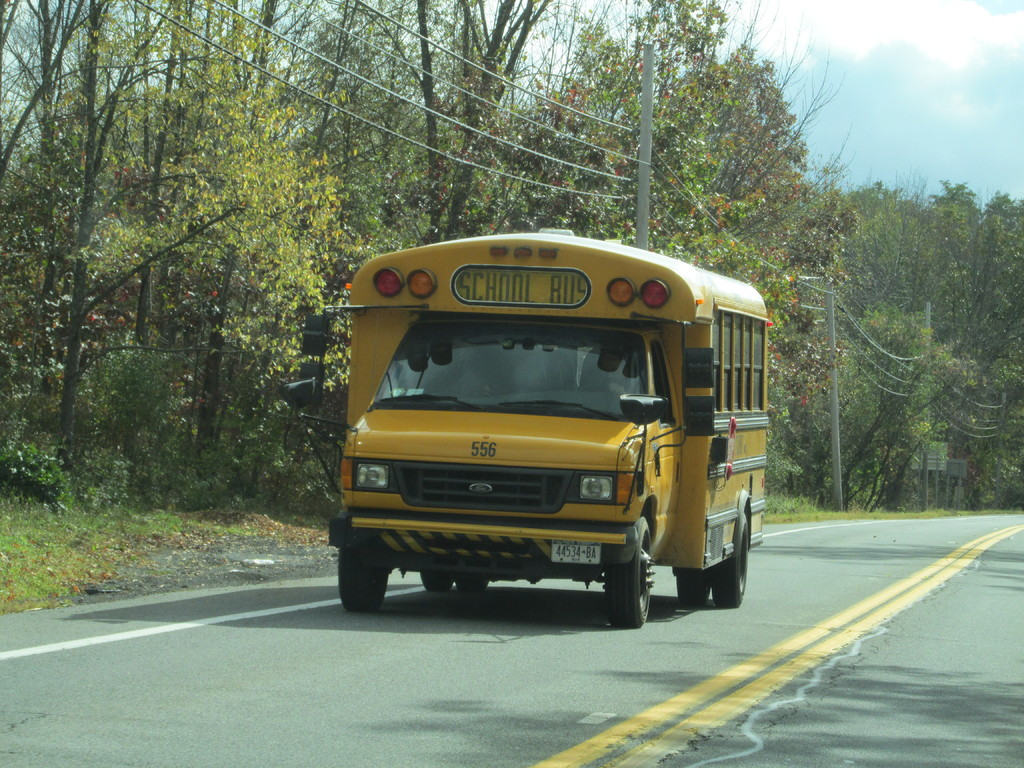Bus: (321, 227, 762, 629)
